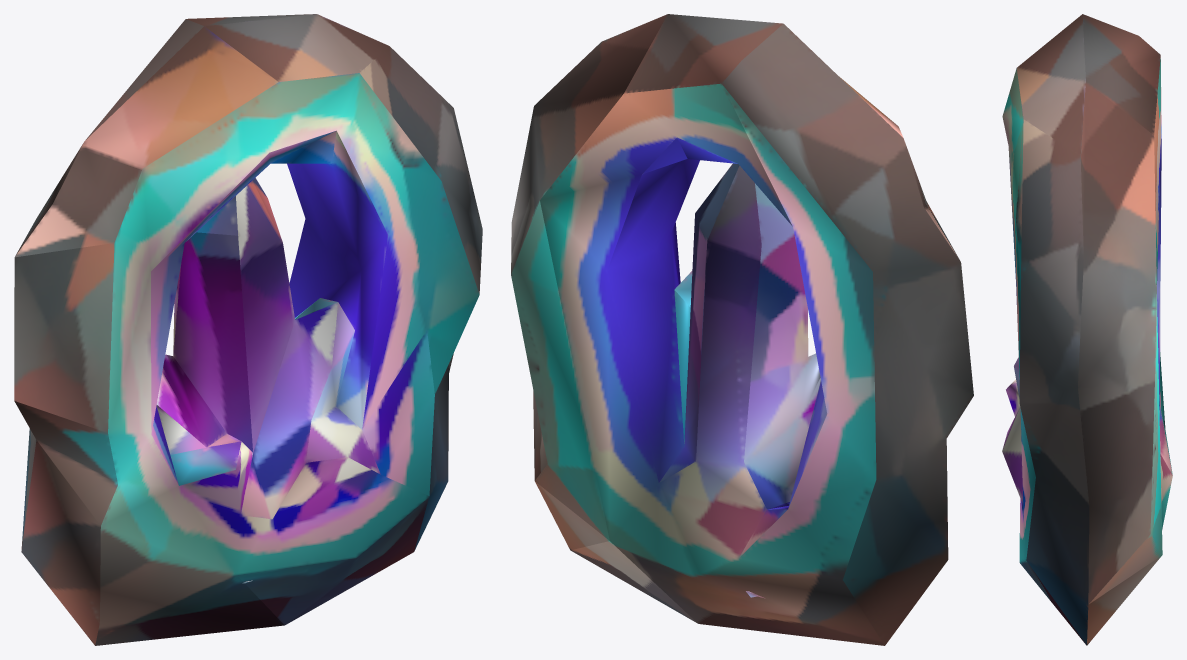
The model's file is amethyst-geode.glb.
3 renders of one model, left to right at view 1: azimuth 30°, elevation 25°; view 2: azimuth 150°, elevation 25°; view 3: azimuth 270°, elevation 25°, orthographic. The views are drawn at different scales.
Visible parts, largest first — view 1: geometry_0; view 2: geometry_0; view 3: geometry_0.
Part boxes in pixels (left/top/right/bottom): geometry_0: left=14, top=14, right=482, bottom=645; geometry_0: left=511, top=14, right=973, bottom=645; geometry_0: left=1002, top=14, right=1172, bottom=645.
Size of the model in its own units: 0.7866 by 1 by 0.2694.
1 material, 1 textured.
